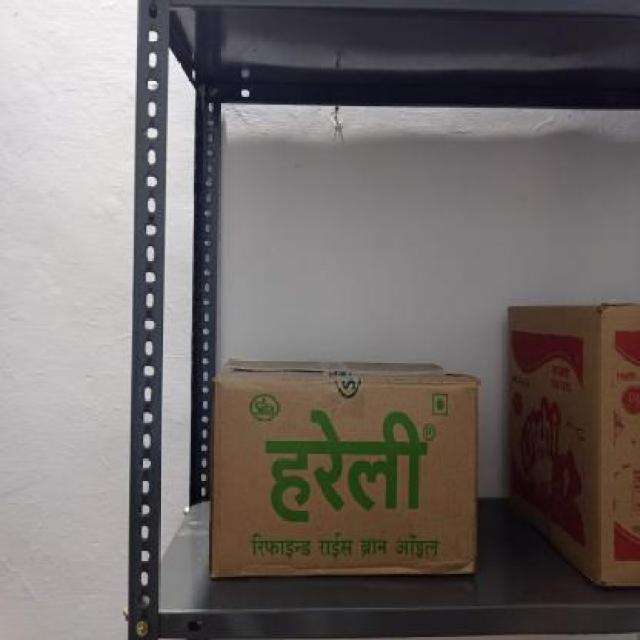box: (203, 380, 479, 576), (502, 307, 606, 565)
